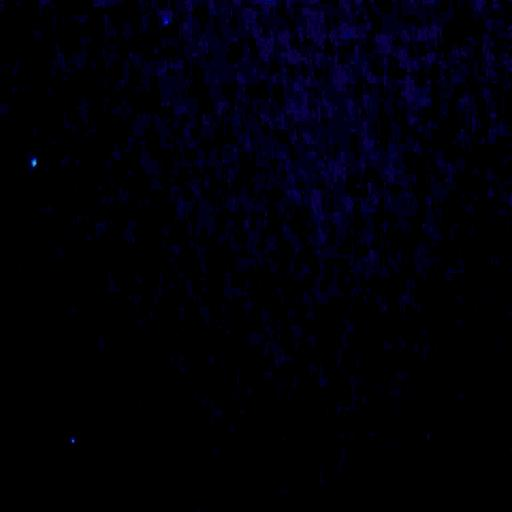object-detection-project: (31, 157, 37, 167)
